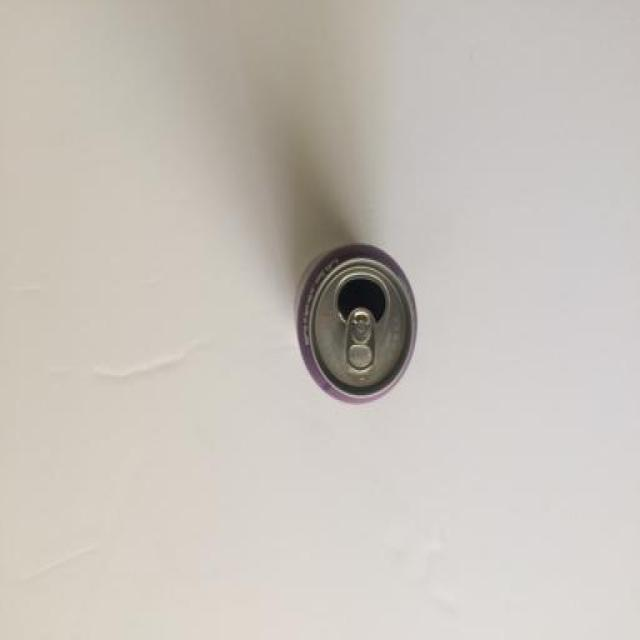Metal: (295, 245, 419, 405)
